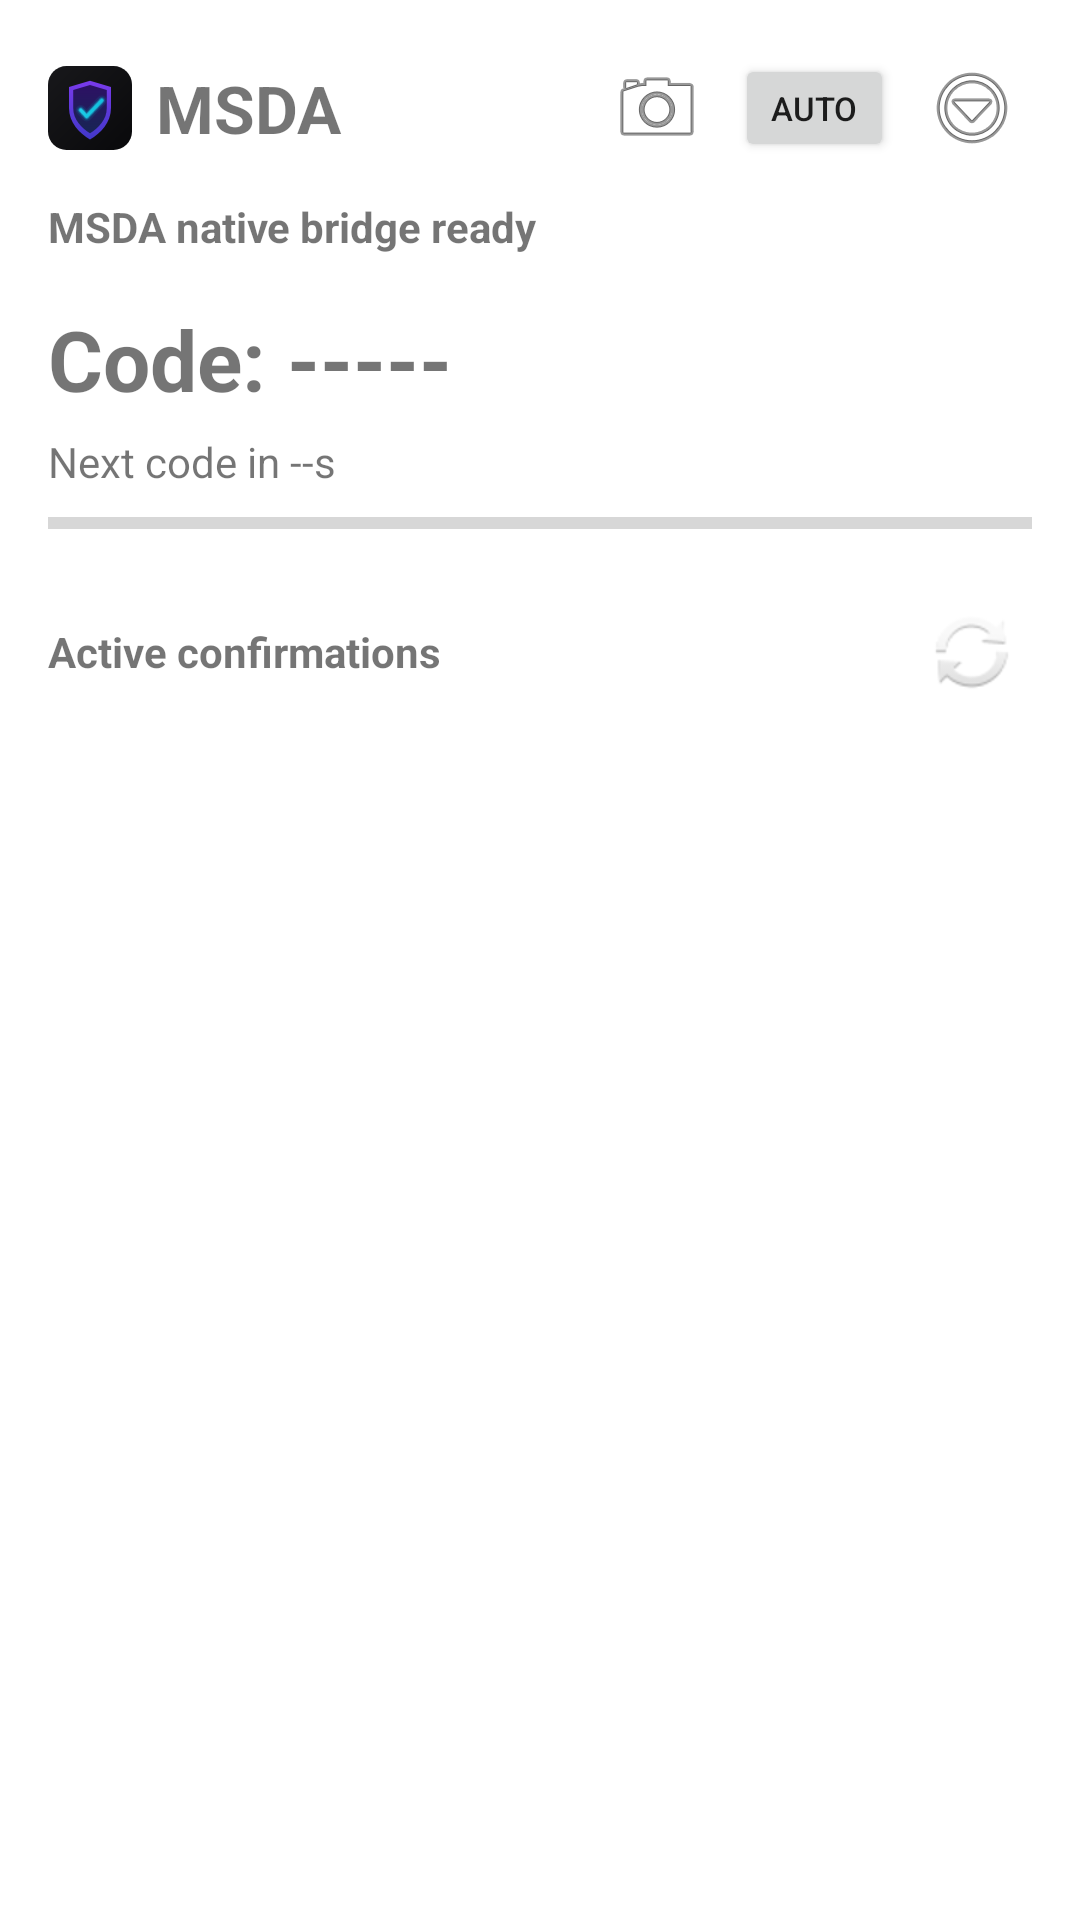

Named icons in this screenshot (1080px×1920px) and their centers, point (x, y):
Load confirmations: point (971, 656)
Quick actions: point (972, 108)
Scan Steam QR: point (657, 106)
